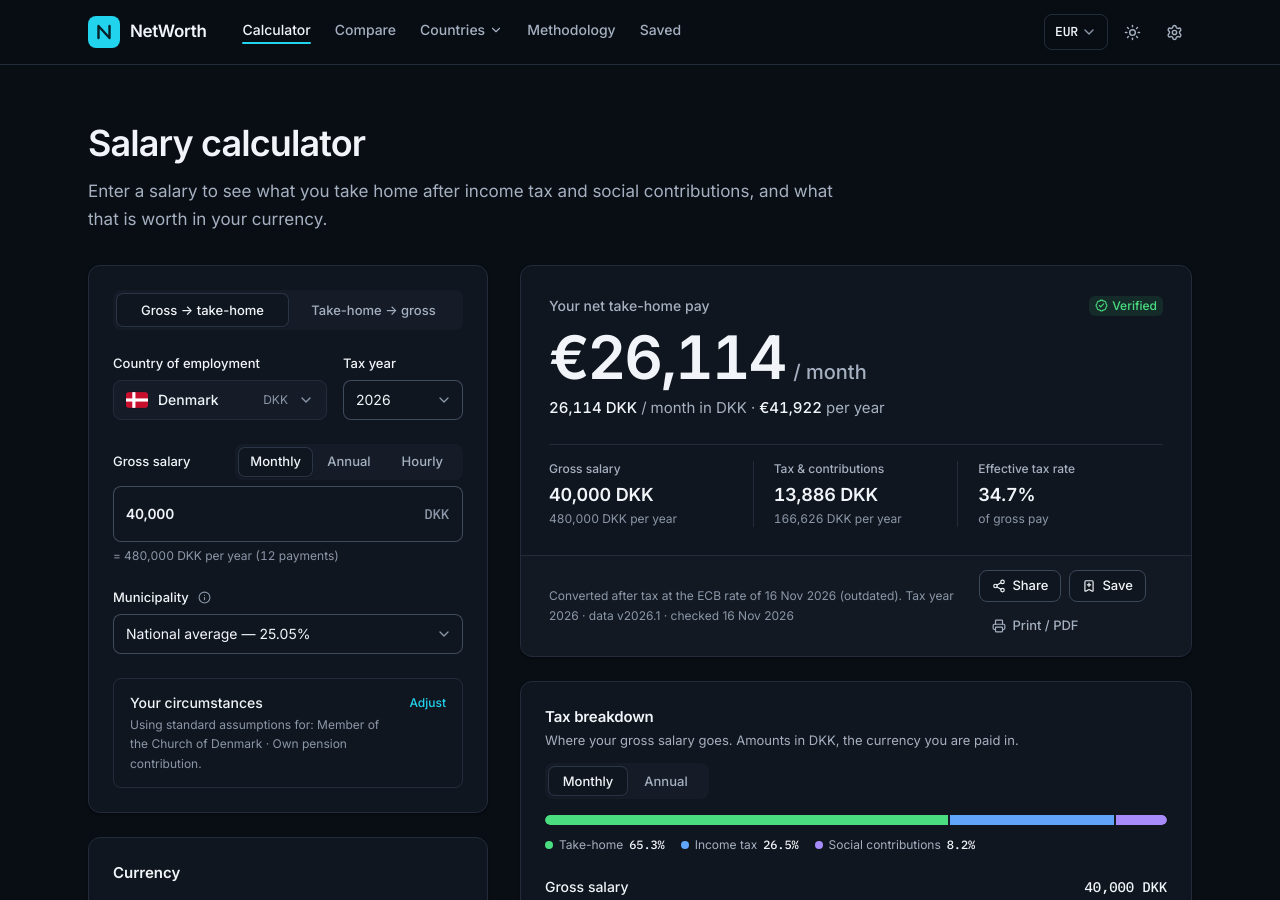
it: calculator › validates the salary field
The width and height of the screenshot is (1280, 900).
Clear the field named "Gross monthly salary in DKK" at {"x": 288, "y": 514}, box [113,486,463,542]
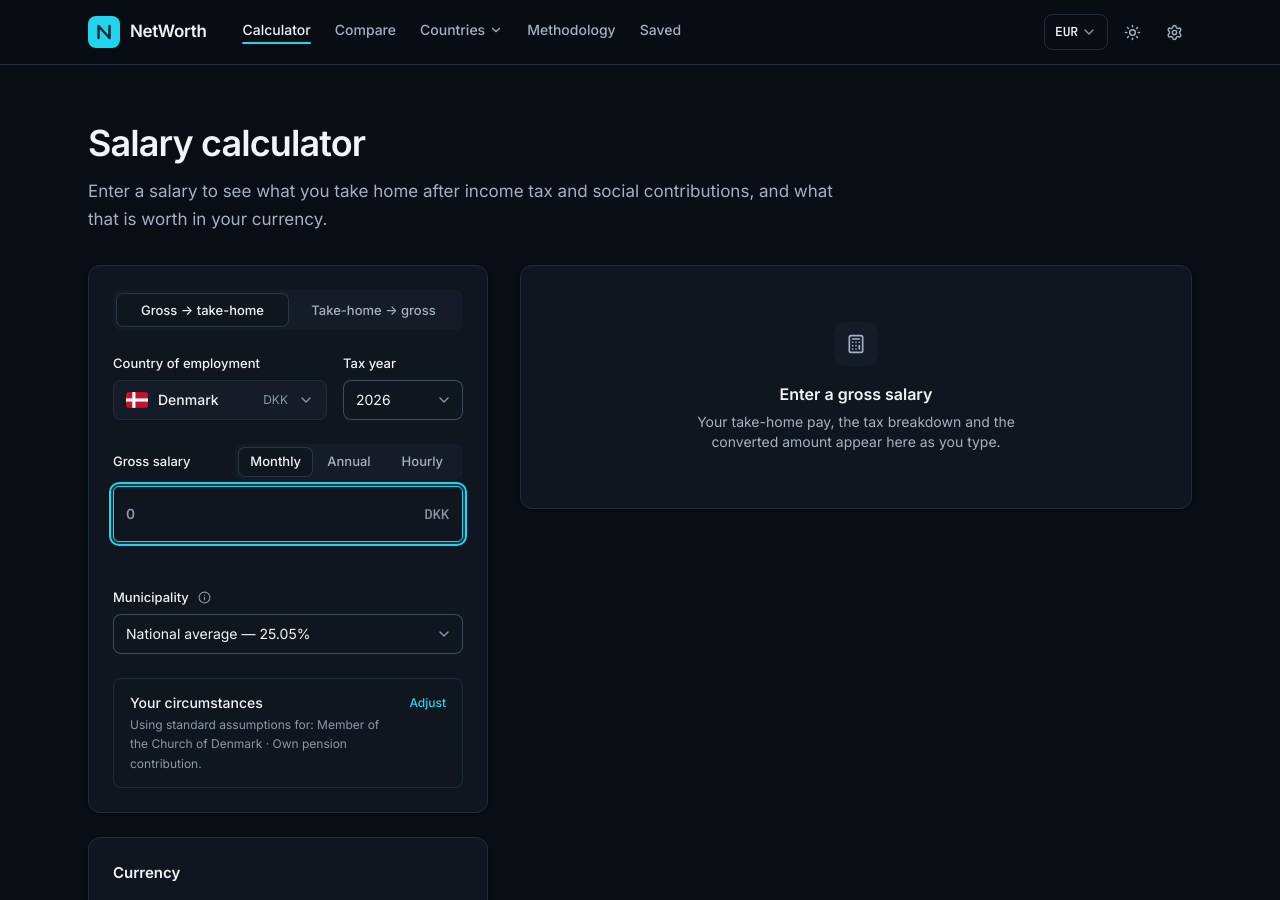
Press Tab
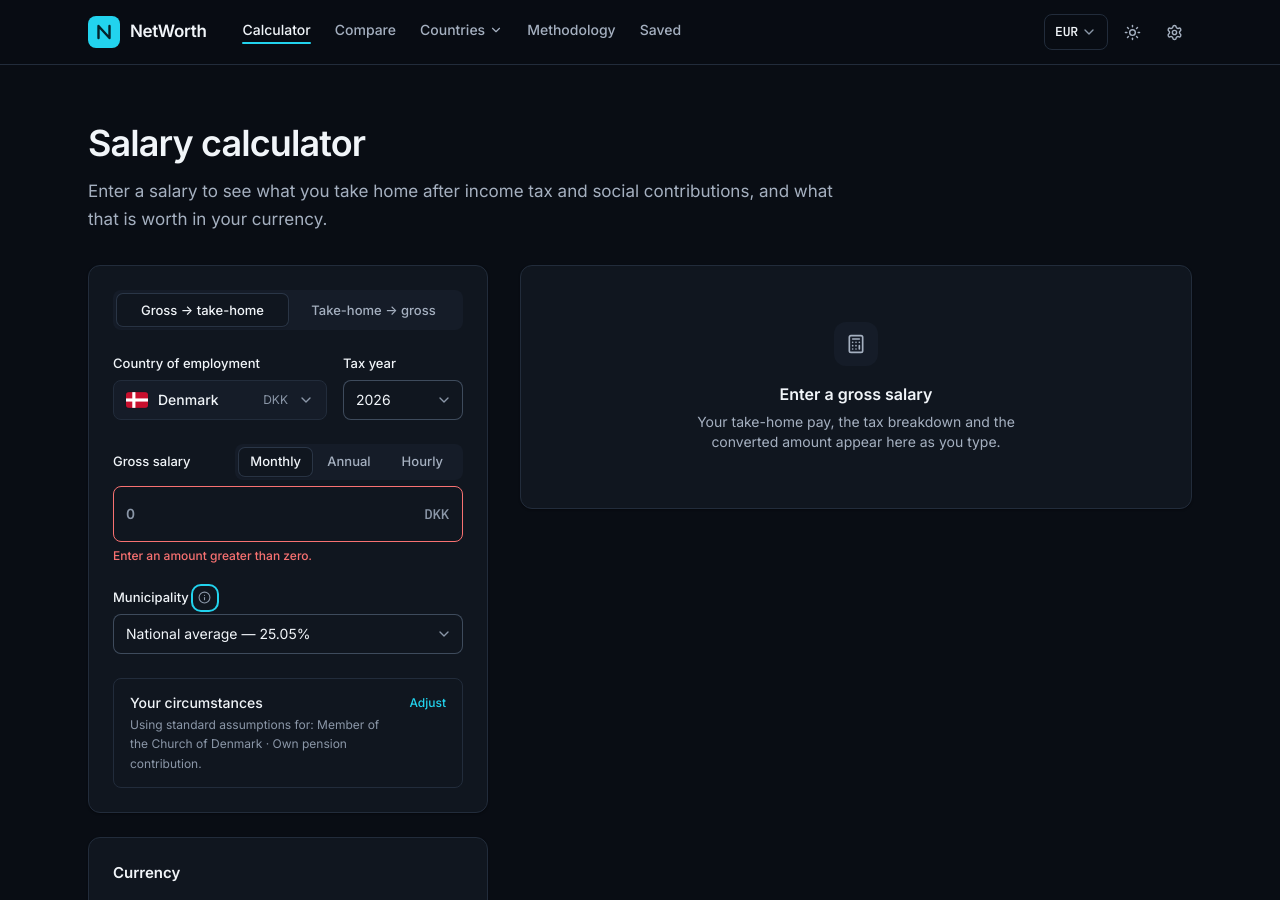
Result: the text "Enter an amount greater than zero." is shown at [113,548,312,563]
